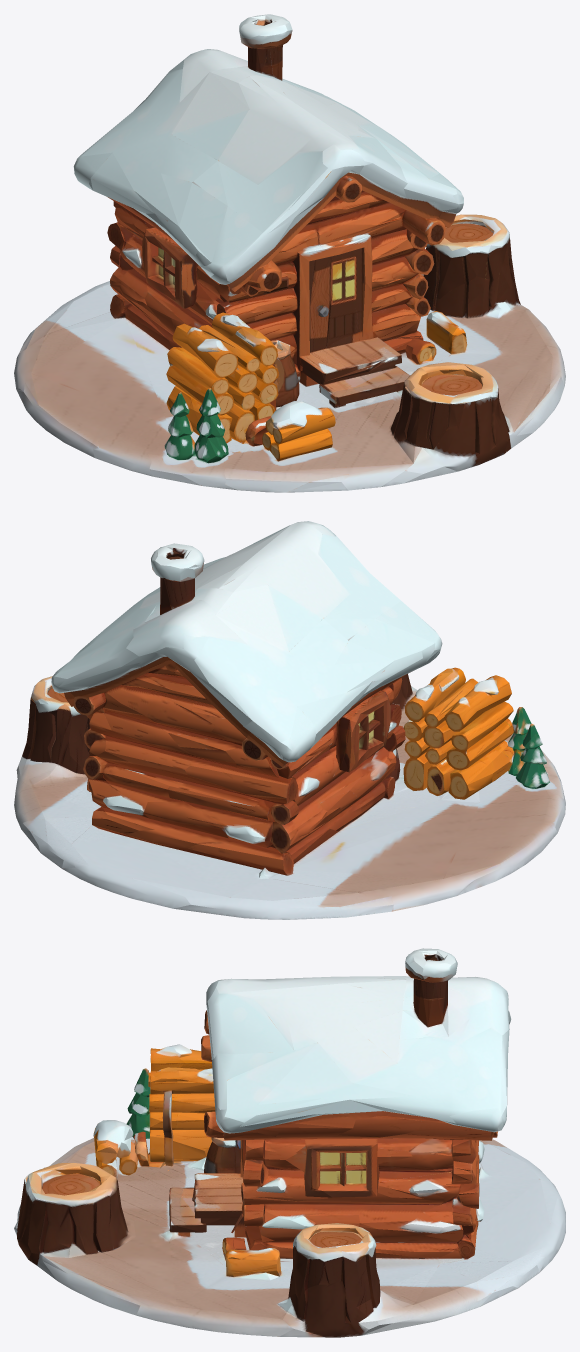
Rendered from logger_lodge.glb.
3 views of the same model, one above another, from view 1: azimuth 30°, elevation 25°; view 2: azimuth 150°, elevation 25°; view 3: azimuth 270°, elevation 25° (orthographic).
Bounding box in the file's own units: 1.89 × 1.1 × 1.9.
Materials: 1 (1 with a texture image).
